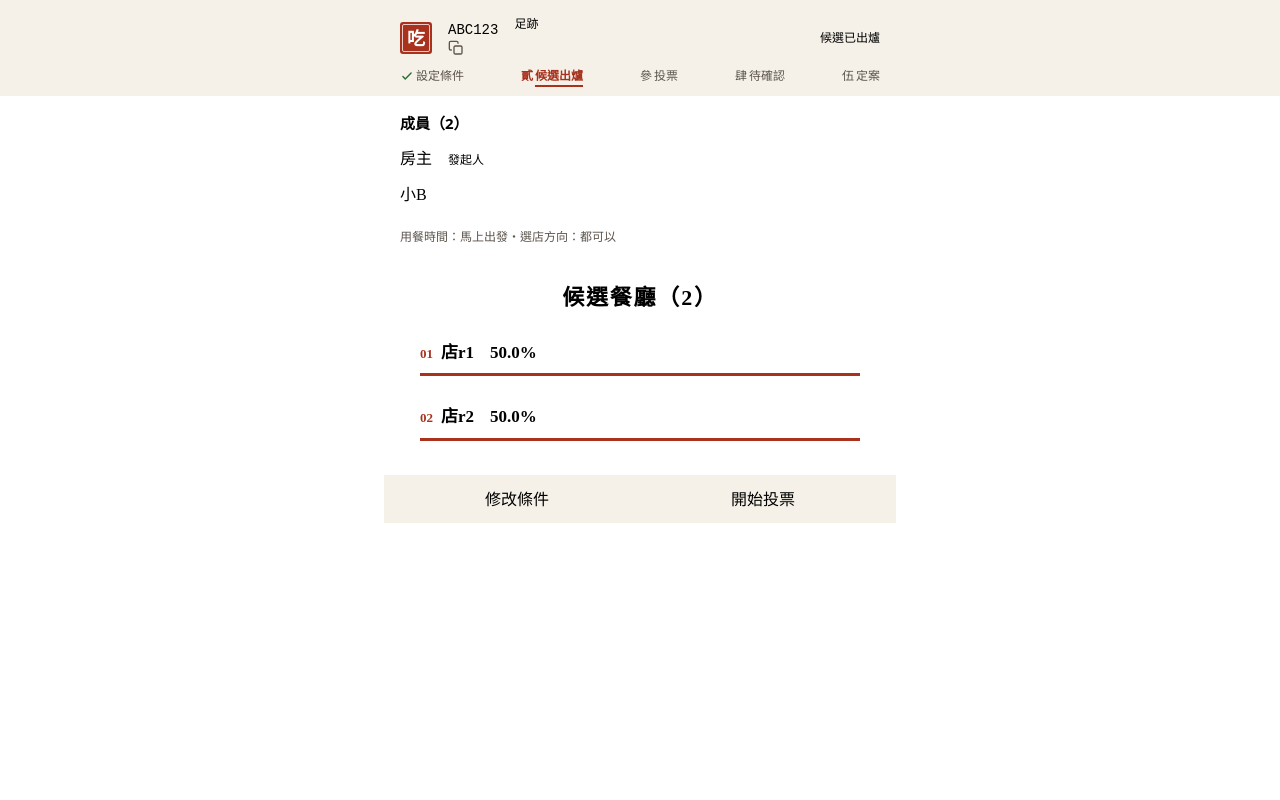
RoomPage 候選出爐：房主動作 › 修改條件先開站內確認框；按取消不送 request、焦點回到觸發鈕
Step 1. Click the button "修改條件" → (517, 498), box [400,486,634,510]
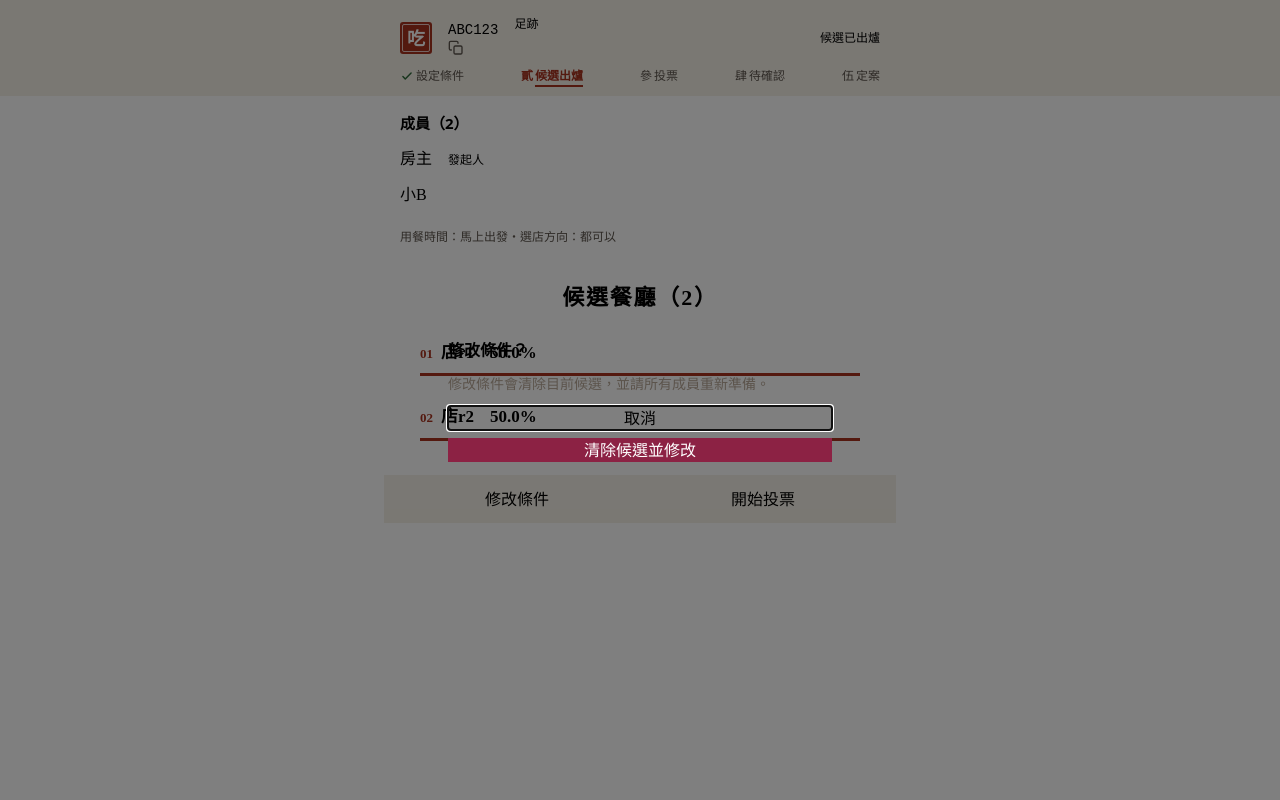
Check: the heading "修改條件？" is shown, box [448,339,528,361]
Check: the dialog shows "修改條件會清除目前候選，並請所有成員重新準備。", box [448,374,770,393]
Step 2. Click the button "取消" → (640, 418), box [448,406,832,430]
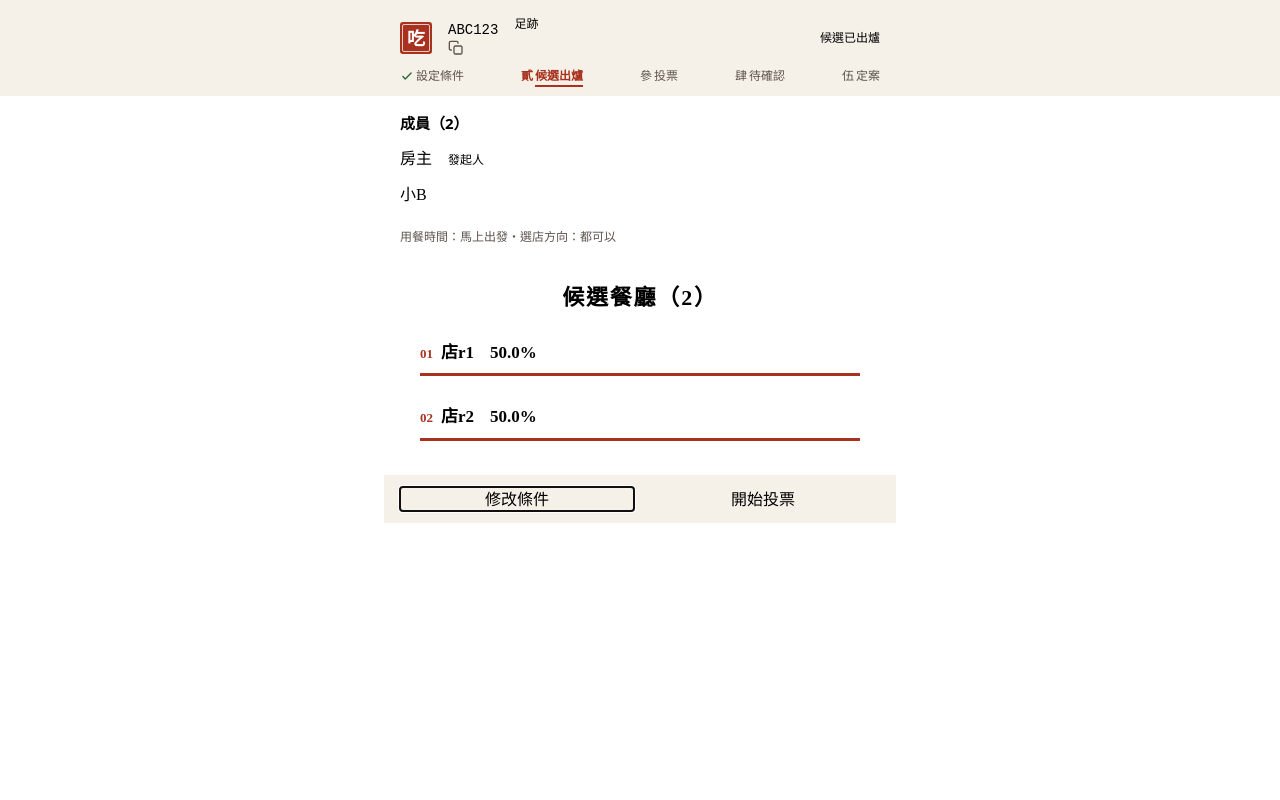
Check: the dialog is gone
# 按確定：關框並送出
Step 3. Click the button "修改條件" → (517, 498), box [400,486,634,510]
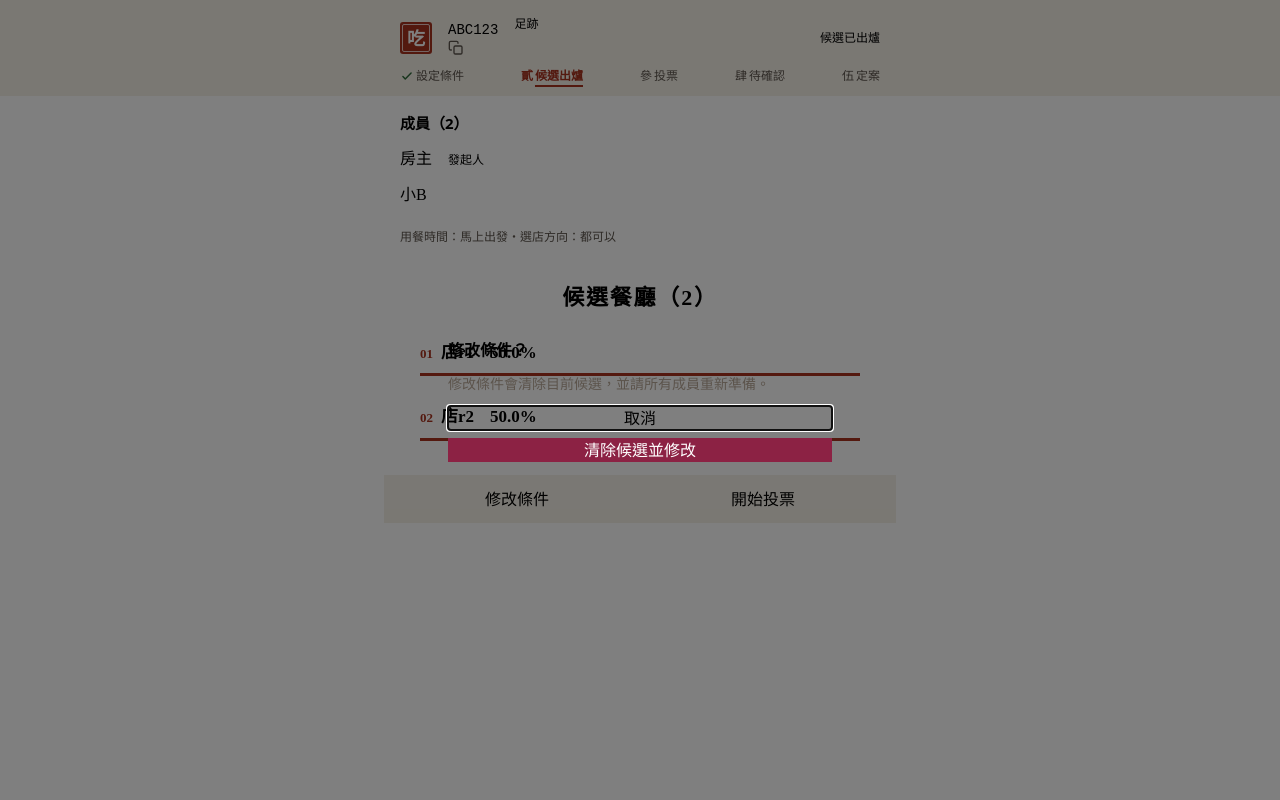
Step 4. Click the button "清除候選並修改" → (640, 450), box [448,438,832,462]
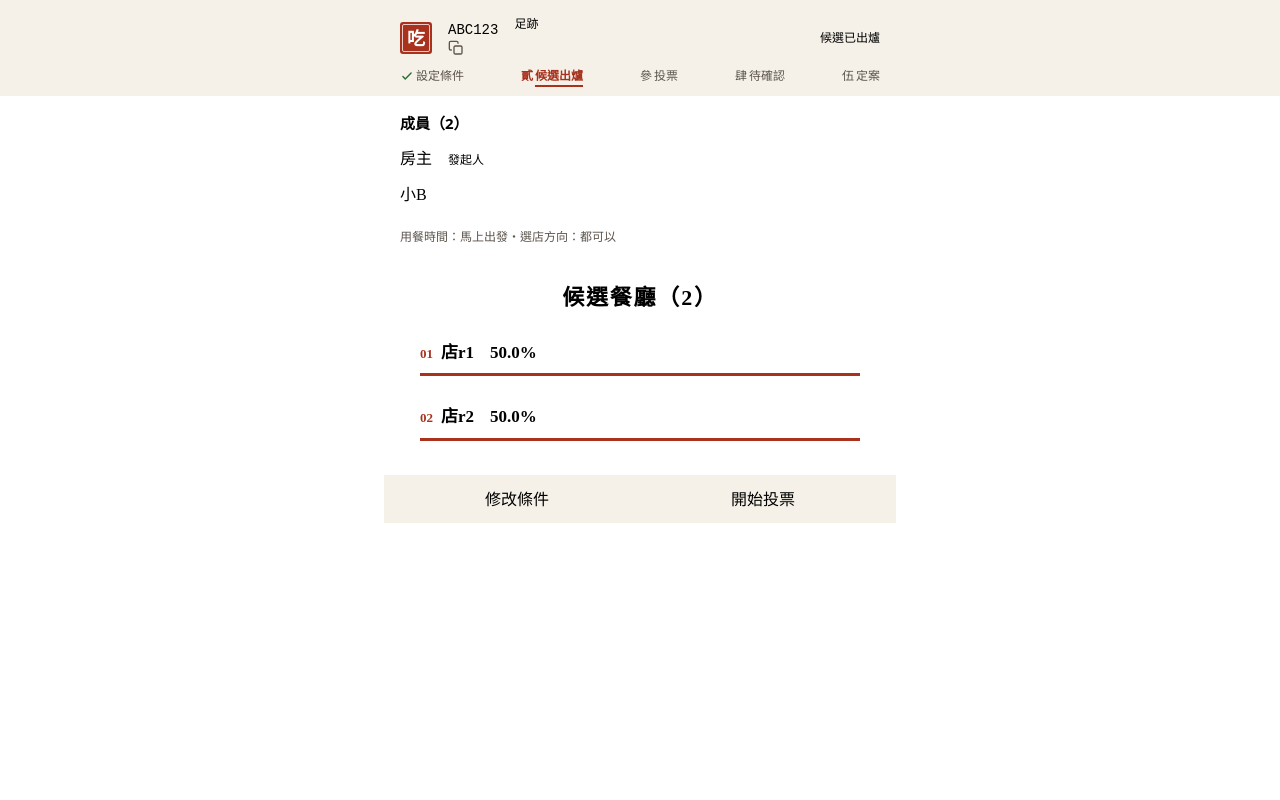
Check: the dialog is gone
